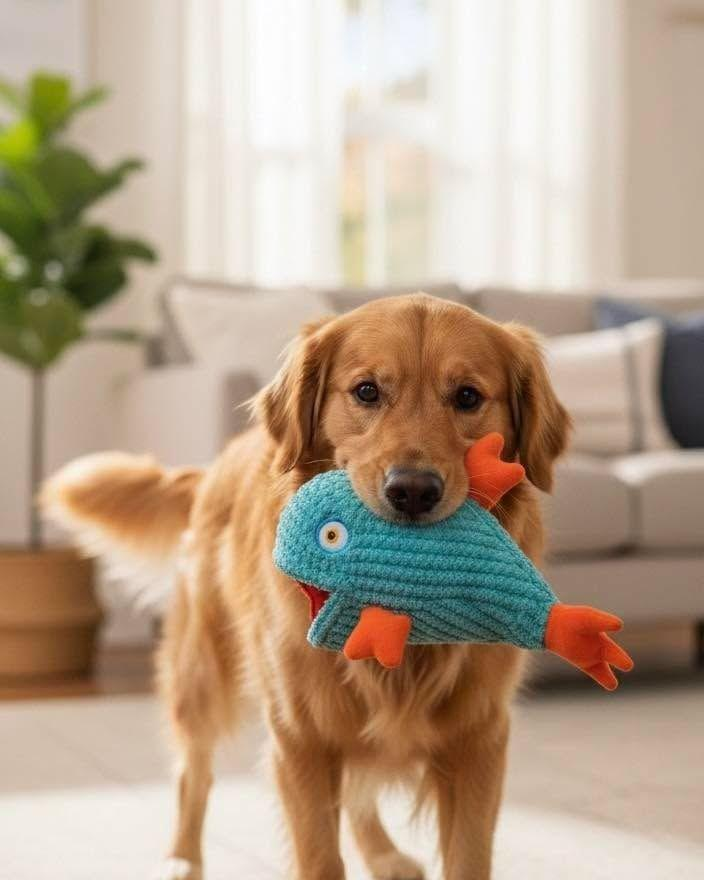adult_dog: (34, 290, 576, 880)
